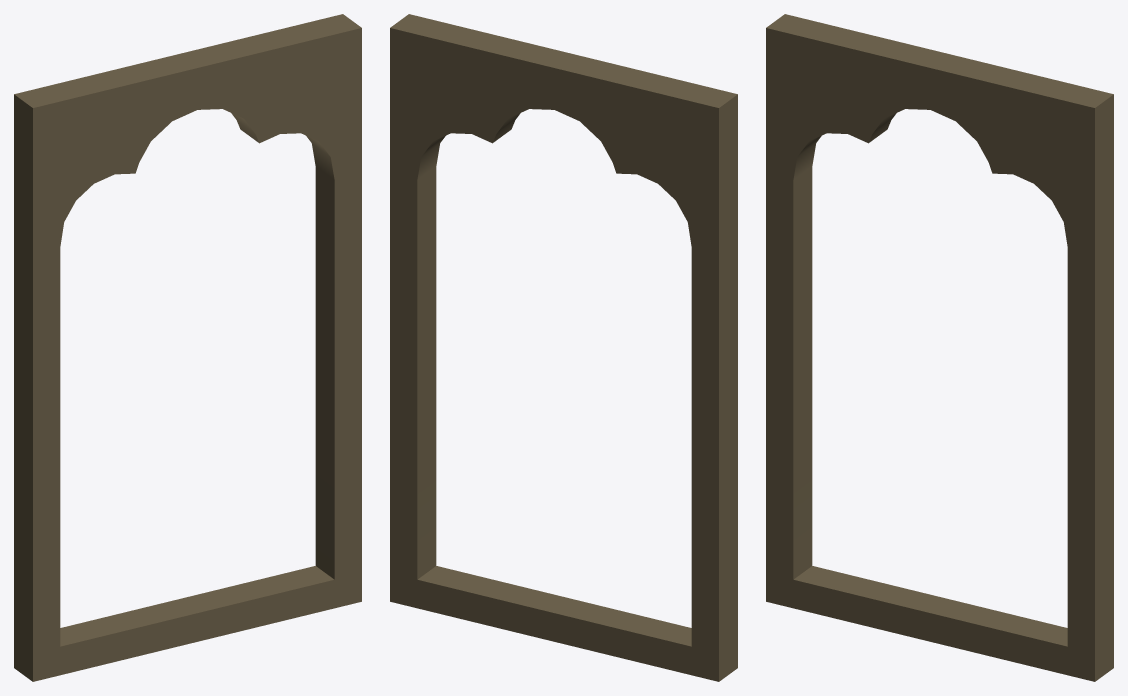
Rendered from Window_01.fbx.
3 renders of one model, left to right at view 1: azimuth 30°, elevation 25°; view 2: azimuth 150°, elevation 25°; view 3: azimuth 330°, elevation 25°, orthographic.
Parts seen in each view (by area): view 1: Window_01; view 2: Window_01; view 3: Window_01.
Boxes of the visible parts, box(x1,y1,x2,y2) form: Window_01: box(14, 14, 361, 681); Window_01: box(390, 14, 737, 681); Window_01: box(766, 14, 1113, 681).
Size of the model in its own units: 3 by 5 by 0.3.
